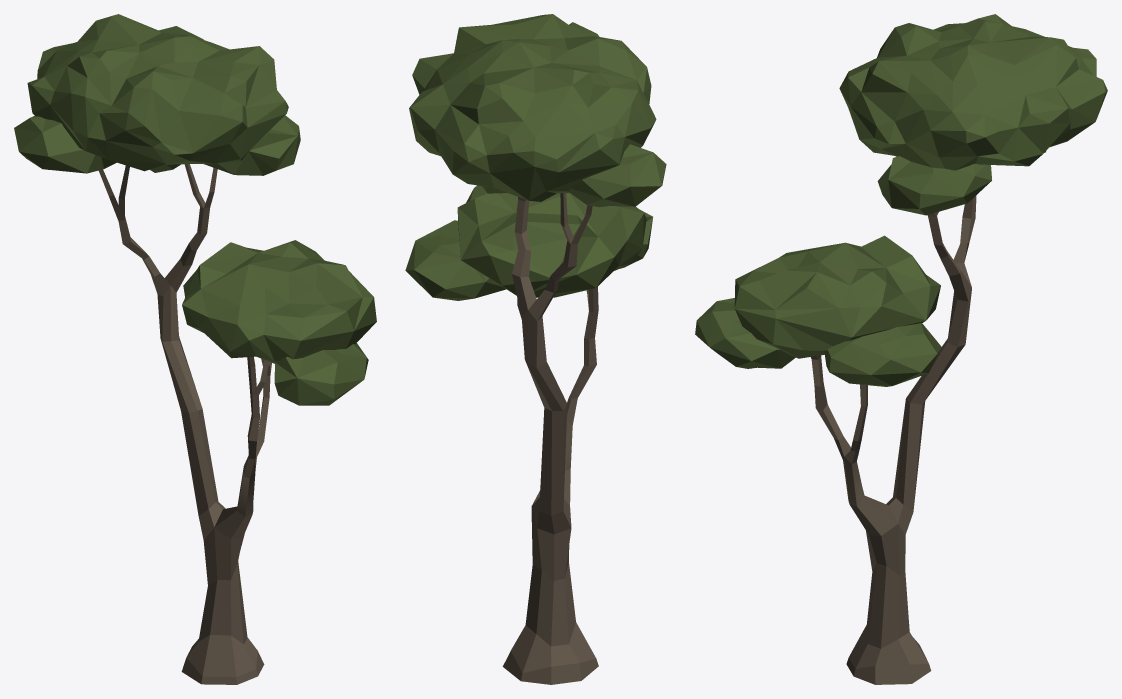
File: tree_029.fbx
3 renders of one model, left to right at view 1: azimuth 30°, elevation 25°; view 2: azimuth 150°, elevation 25°; view 3: azimuth 270°, elevation 25°, orthographic. The views are drawn at different scales.
Visible parts, largest first — view 1: tree_029; view 2: tree_029; view 3: tree_029.
Boxes of the visible parts, x1,y1,x2,y2 form: tree_029: [14, 14, 376, 684]; tree_029: [405, 14, 666, 684]; tree_029: [695, 14, 1107, 684].
Size of the model in its own units: 0.9064 by 1.88 by 1.14.
Materials: 1 (1 with a texture image).
